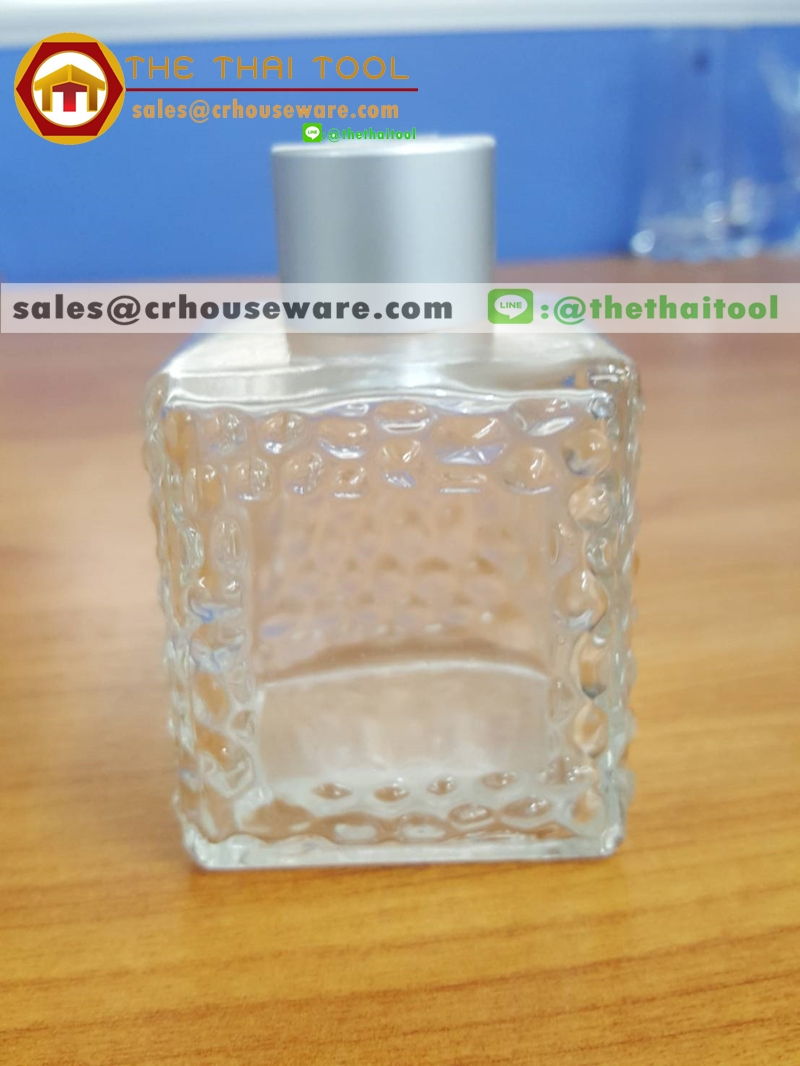glass_bottle: (135, 122, 643, 884)
